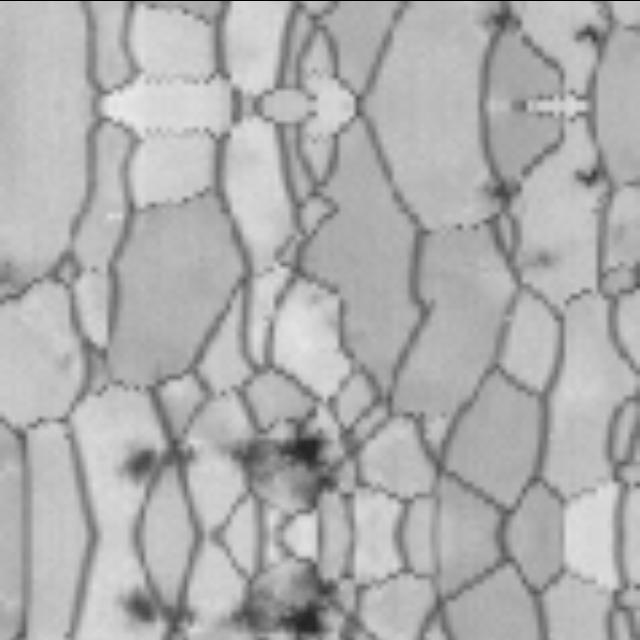good_void: (229, 410, 360, 530), (229, 538, 360, 640), (111, 431, 206, 492), (111, 577, 206, 638), (567, 154, 608, 194), (567, 14, 608, 54), (486, 171, 521, 216), (530, 234, 563, 281), (486, 0, 521, 37)
